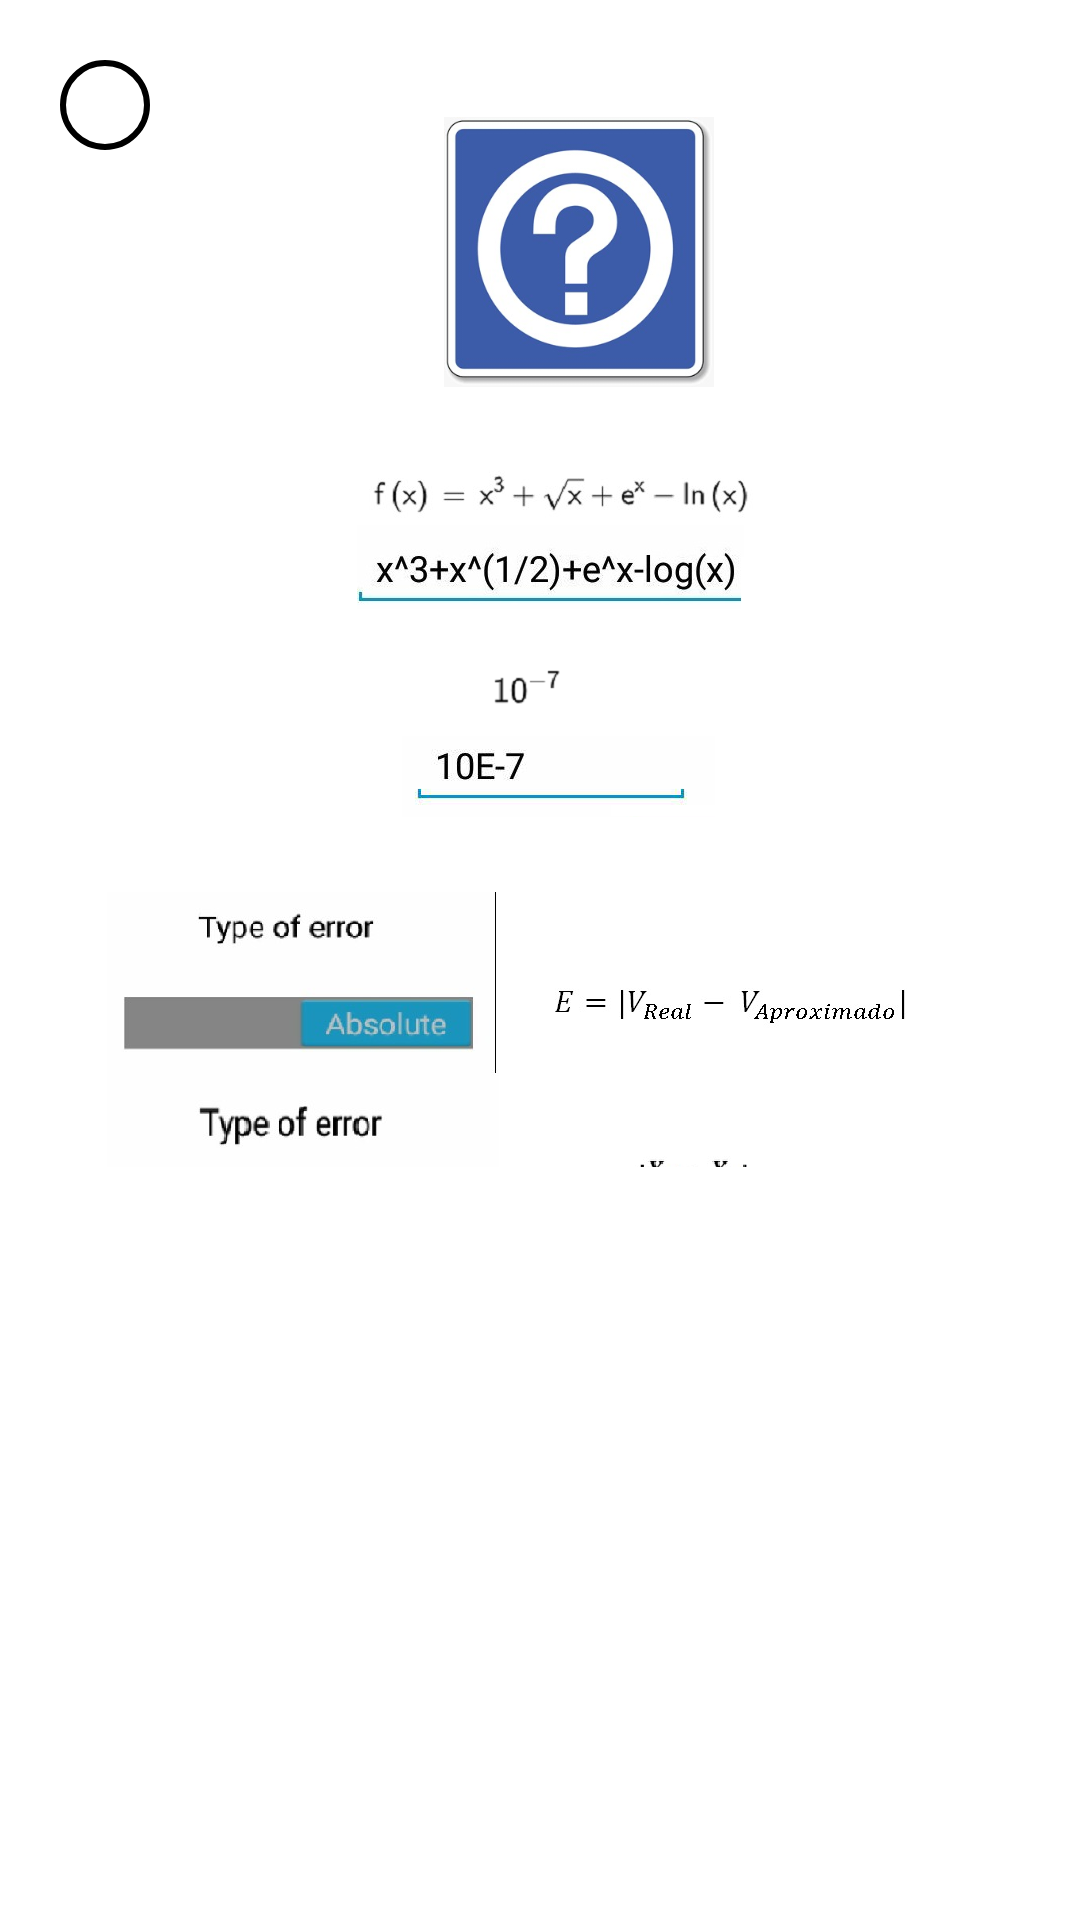

Named icons in this screenshot (1080x1920) and their centers, point (x, y):
signo: point (577, 251)
